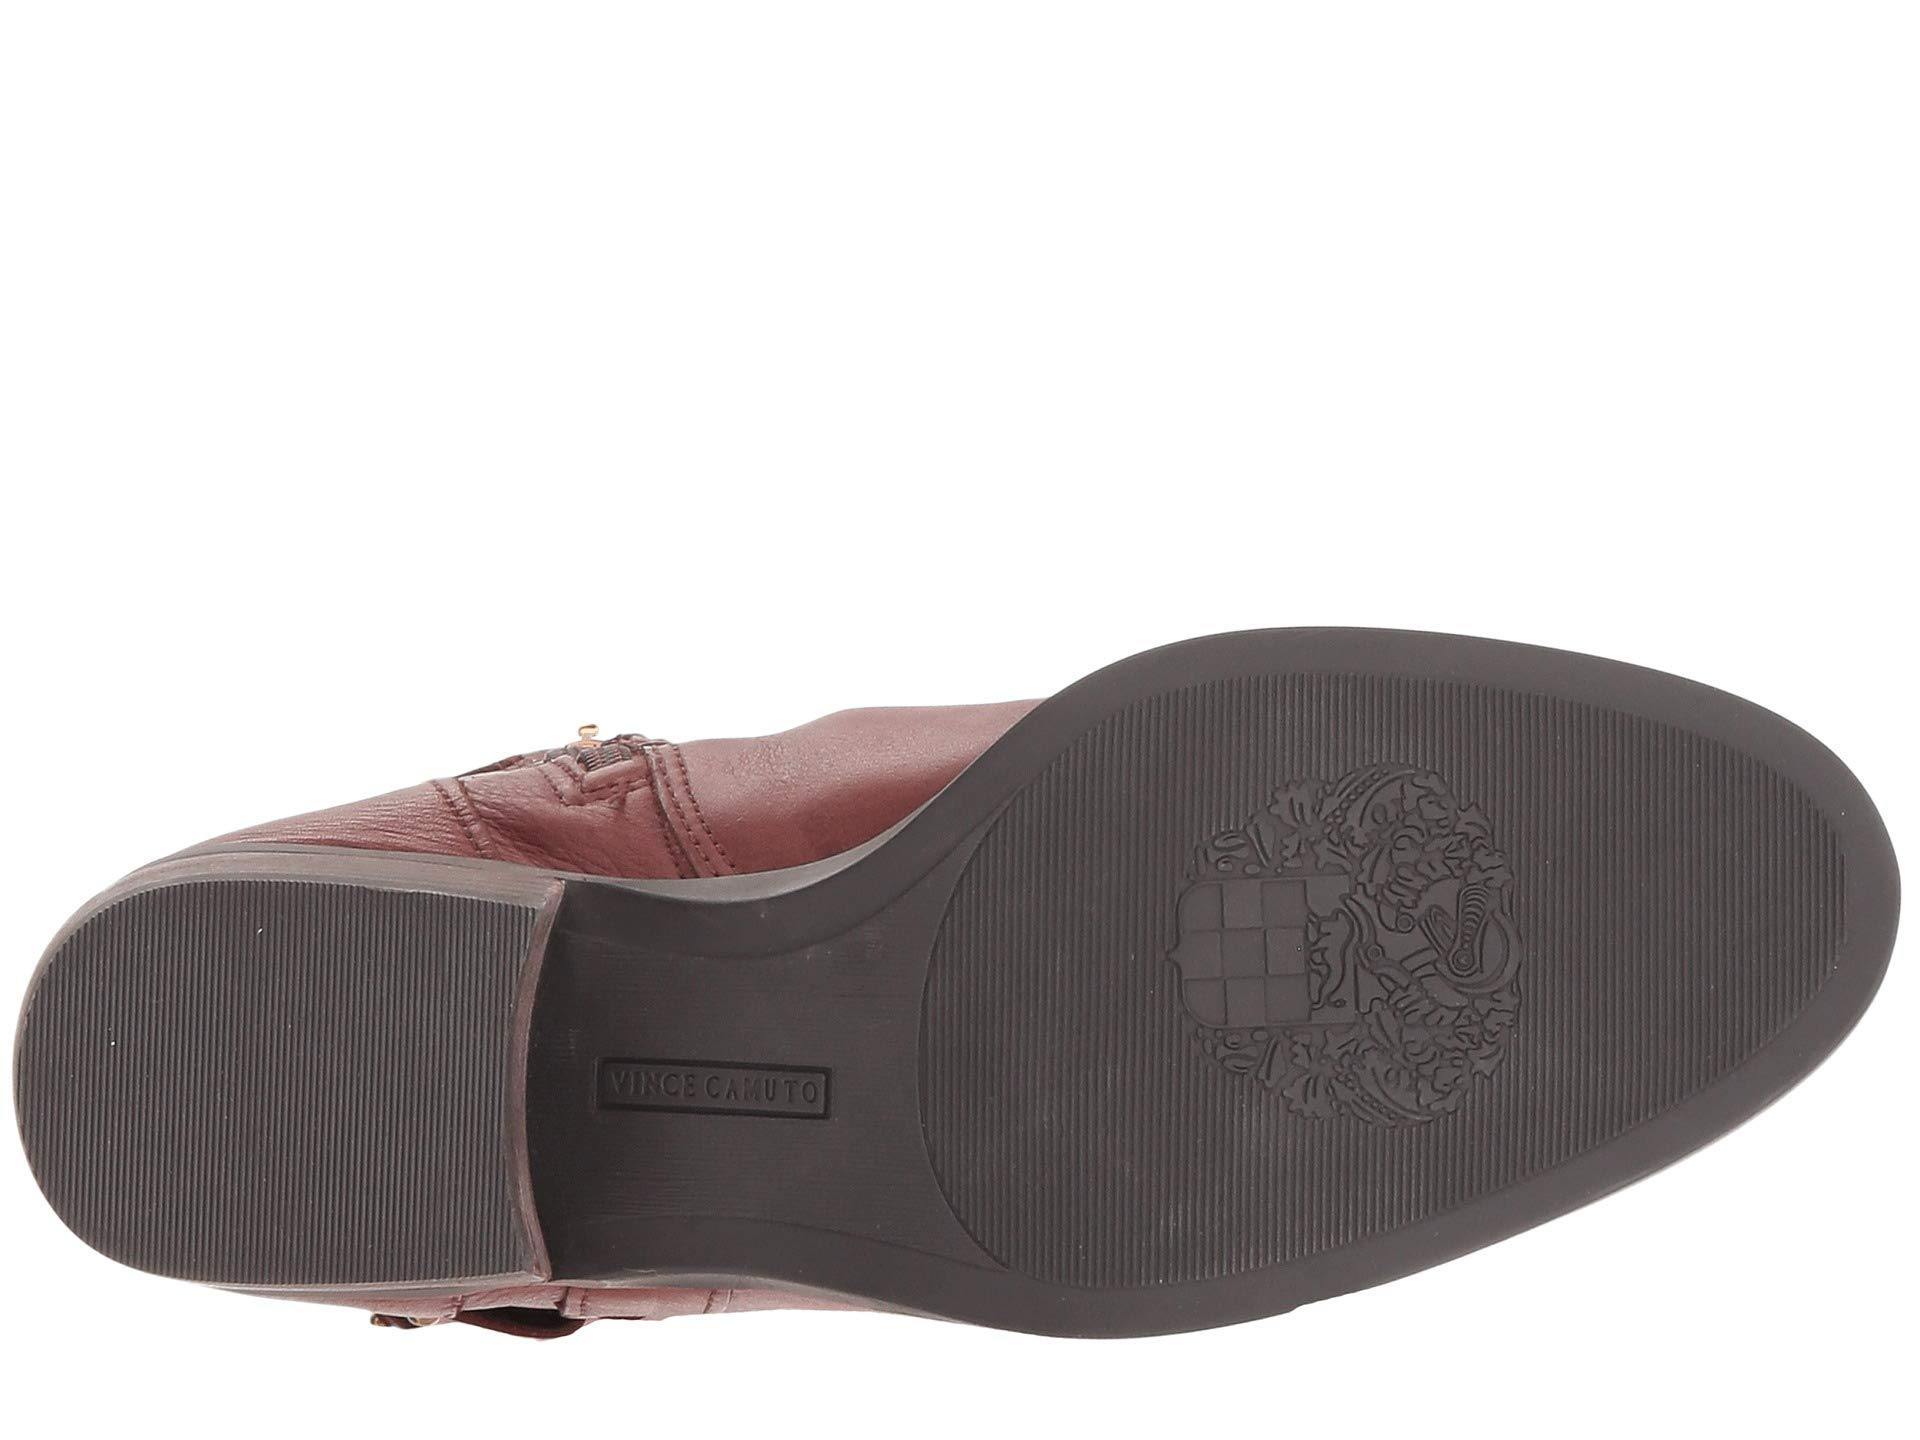circle: (1160, 740, 1541, 1137), (593, 1042, 847, 1124)
line: (1160, 740, 1541, 1137), (195, 950, 401, 1160)
other: (1160, 740, 1541, 1137)
quad: (1160, 740, 1541, 1137), (593, 1042, 847, 1124)
text: (593, 1042, 847, 1124)
